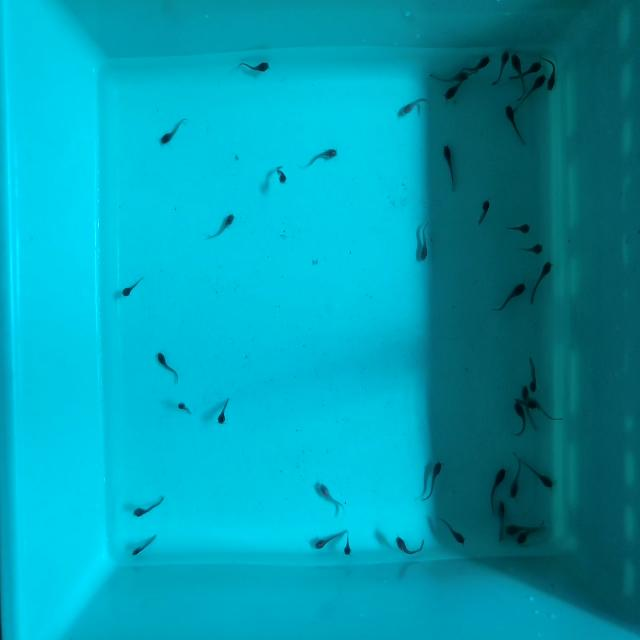lele: (513, 71, 548, 114), (501, 100, 528, 150), (520, 454, 554, 488), (514, 515, 547, 548), (492, 283, 526, 314), (375, 530, 415, 556), (530, 397, 565, 426), (530, 260, 552, 306), (319, 482, 347, 518), (508, 48, 529, 95), (204, 211, 235, 242), (160, 116, 190, 148), (520, 382, 539, 432), (436, 515, 467, 545), (506, 58, 543, 83), (489, 467, 506, 520), (299, 148, 338, 171), (260, 164, 287, 197), (133, 495, 166, 521), (312, 526, 347, 550), (443, 143, 458, 194), (398, 96, 431, 119), (130, 533, 158, 560), (492, 51, 511, 90), (425, 460, 442, 503), (445, 76, 473, 102), (159, 349, 180, 383), (122, 272, 148, 299), (462, 55, 492, 76), (396, 536, 426, 556), (511, 452, 523, 502), (175, 396, 199, 420), (417, 219, 429, 264), (233, 61, 270, 75), (543, 56, 556, 95), (505, 522, 540, 536), (477, 199, 493, 229), (428, 71, 469, 82), (497, 500, 507, 545), (217, 396, 232, 425), (514, 403, 525, 439), (528, 354, 538, 393), (505, 222, 531, 234), (518, 242, 542, 254), (343, 526, 352, 556)
